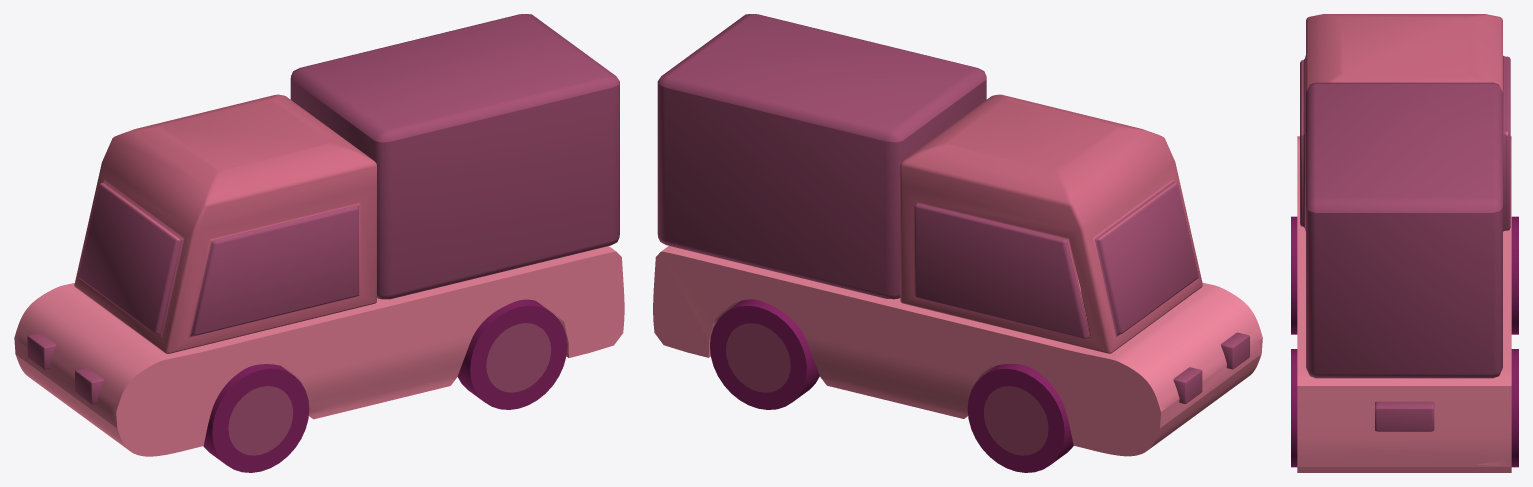
File: dostawczak-otwieranie.gltf
3 renders of one model, left to right at view 1: azimuth 30°, elevation 25°; view 2: azimuth 150°, elevation 25°; view 3: azimuth 270°, elevation 25°, orthographic. The views are drawn at different scales.
Parts seen in each view (by area): view 1: Circle.007, Cube.008; view 2: Circle.007, Cube.008; view 3: Circle.007, Cube.008.
Boxes of the visible parts, x1,y1,x2,y2 form: Circle.007: [14, 41, 624, 472]; Cube.008: [411, 14, 619, 114]; Circle.007: [653, 41, 1262, 472]; Cube.008: [657, 14, 866, 114]; Circle.007: [1291, 14, 1518, 472]; Cube.008: [1306, 141, 1502, 212].
Bounding box in the file's own units: 6.48 × 3.53 × 2.31.
5 materials, 5 textured.
